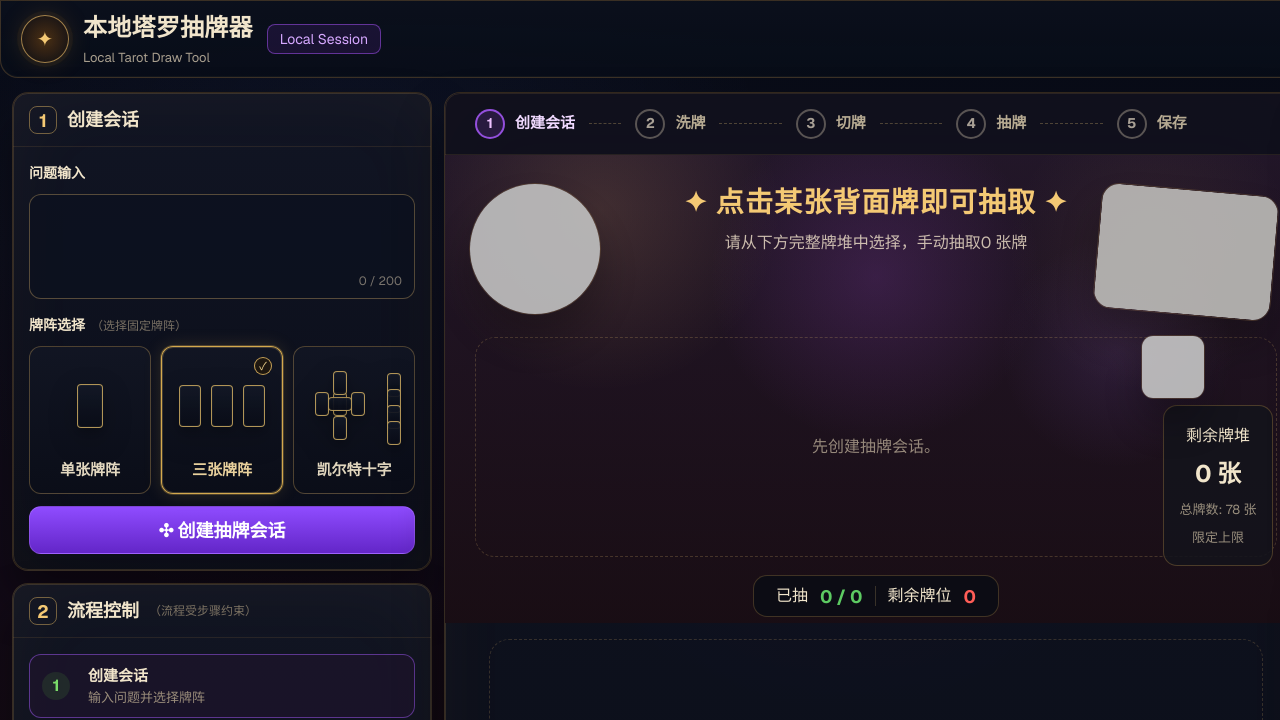
TarotApp › 未洗牌时，抽牌和保存流程不可用
The width and height of the screenshot is (1280, 720).
What coordinates should you click on to do the following:
click the button "✣ 创建抽牌会话"
I would click on:
 (222, 530)
Its box is x1=29 y1=506 x2=415 y2=554.
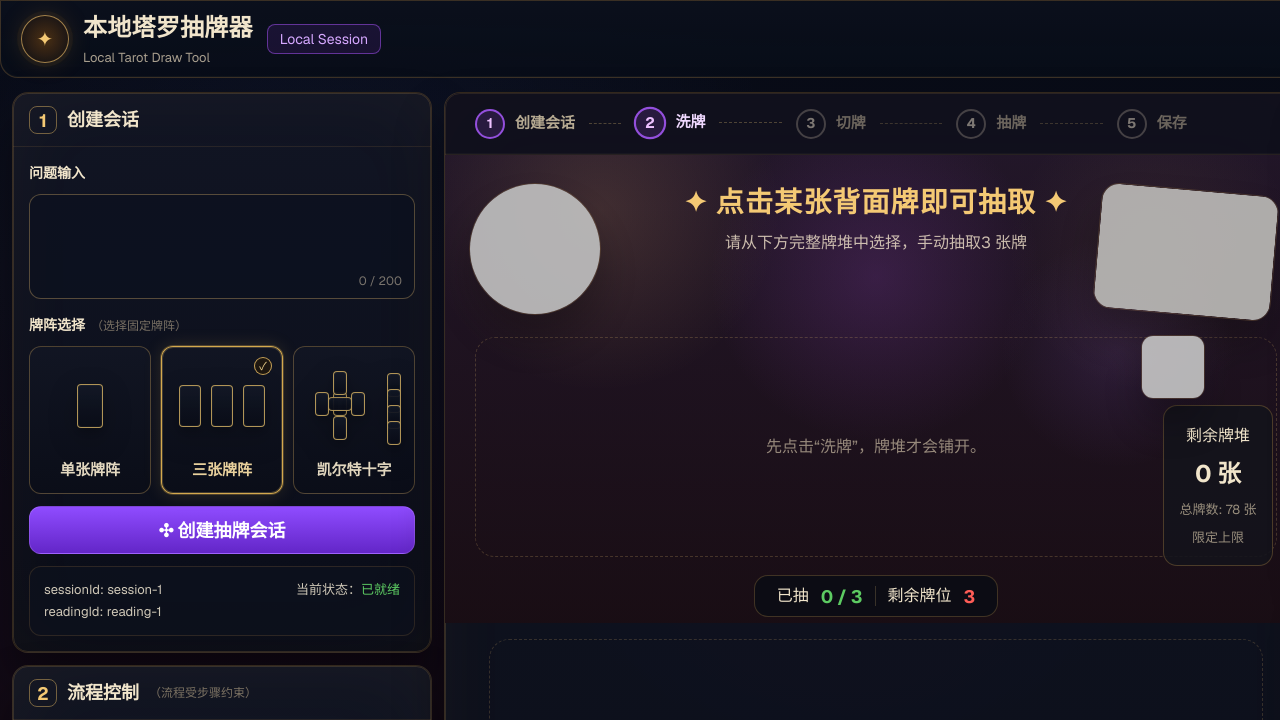
Now the text "先点击“洗牌”，牌堆才会铺开。" is shown, box x1=475 y1=337 x2=1277 y2=557
